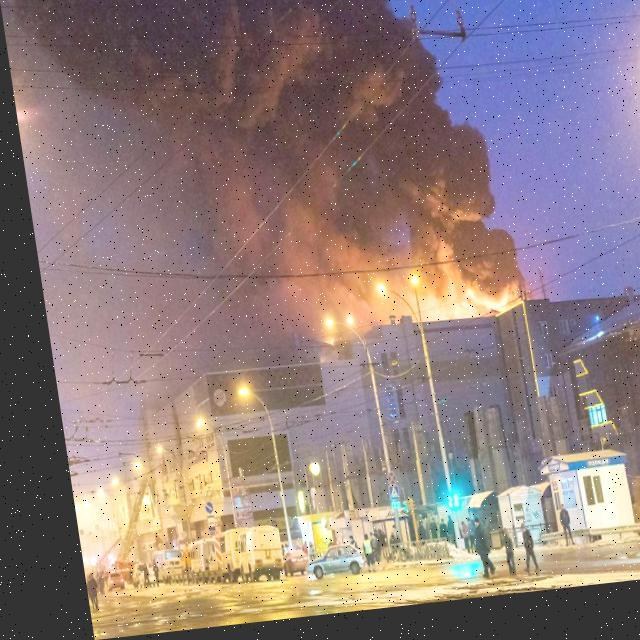Fire: (412, 282, 518, 338)
